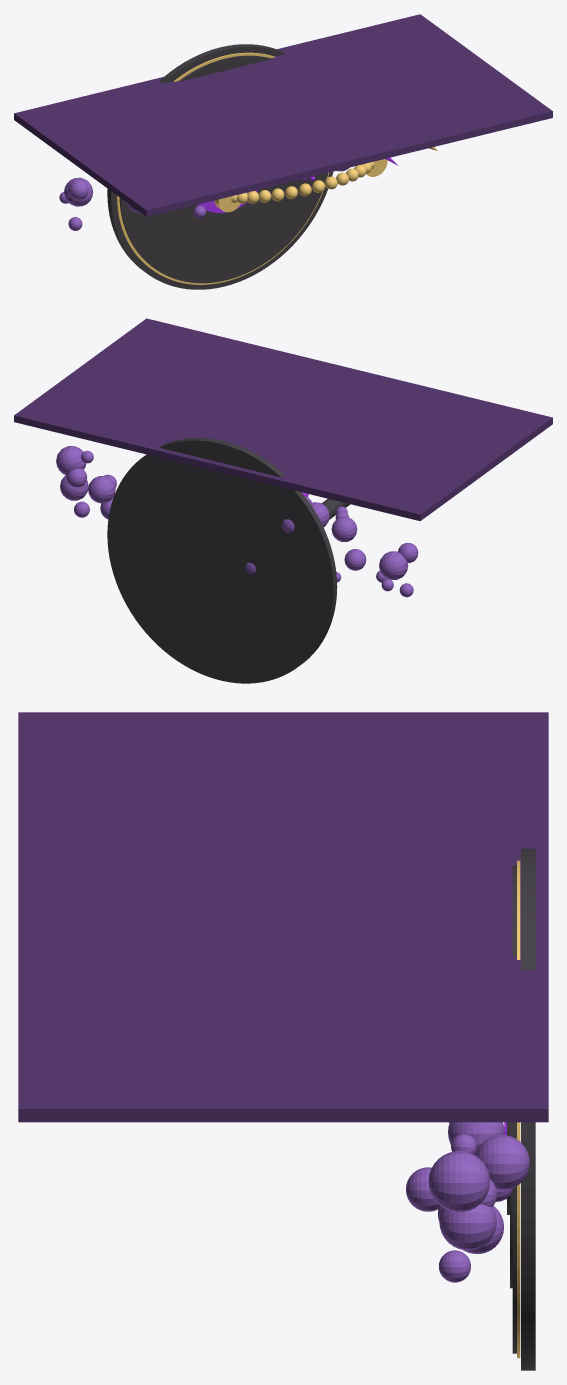
File: lee-wuh-world-background.glb
The picture shows the model from 3 angles, top to bottom: view 1: azimuth 30°, elevation 25°; view 2: azimuth 150°, elevation 25°; view 3: azimuth 270°, elevation 25°; orthographic projection. The views are drawn at different scales.
Parts seen in each view (by area): view 1: deep_black_purple_world_backdrop, dark_inner_ring_mask_proxy_1, dark_inner_ring_mask_proxy_2, floating_black_stone_realm_platform, engraved_gold_platform_ring_1, dark_inner_ring_mask_proxy_3, soft_purple_realm_mist_proxy_7, soft_purple_realm_mist_proxy_31; view 2: deep_black_purple_world_backdrop, floating_black_stone_realm_platform, soft_purple_realm_mist_proxy_7, soft_purple_realm_mist_proxy_5, soft_purple_realm_mist_proxy_19, soft_purple_realm_mist_proxy_29; view 3: deep_black_purple_world_backdrop, floating_black_stone_realm_platform, soft_purple_realm_mist_proxy_5, soft_purple_realm_mist_proxy_19, soft_purple_realm_mist_proxy_35, dark_inner_ring_mask_proxy_1, engraved_gold_platform_ring_1, soft_purple_realm_mist_proxy_15, soft_purple_realm_mist_proxy_36, soft_purple_realm_mist_proxy_18.
Boxes of the visible parts, left/top/right/bottom form: deep_black_purple_world_backdrop: left=14, top=14, right=552, bottom=216; dark_inner_ring_mask_proxy_1: left=119, top=55, right=328, bottom=283; dark_inner_ring_mask_proxy_2: left=153, top=180, right=299, bottom=253; floating_black_stone_realm_platform: left=107, top=44, right=333, bottom=289; engraved_gold_platform_ring_1: left=116, top=52, right=328, bottom=284; dark_inner_ring_mask_proxy_3: left=190, top=188, right=264, bottom=219; soft_purple_realm_mist_proxy_7: left=64, top=177, right=93, bottom=206; soft_purple_realm_mist_proxy_31: left=68, top=179, right=88, bottom=199; deep_black_purple_world_backdrop: left=14, top=318, right=552, bottom=521; floating_black_stone_realm_platform: left=107, top=438, right=337, bottom=683; soft_purple_realm_mist_proxy_7: left=379, top=551, right=408, bottom=579; soft_purple_realm_mist_proxy_5: left=56, top=446, right=86, bottom=475; soft_purple_realm_mist_proxy_19: left=88, top=476, right=115, bottom=503; soft_purple_realm_mist_proxy_29: left=331, top=516, right=357, bottom=541; deep_black_purple_world_backdrop: left=18, top=712, right=548, bottom=1122; floating_black_stone_realm_platform: left=521, top=848, right=535, bottom=1370; soft_purple_realm_mist_proxy_5: left=428, top=1151, right=489, bottom=1212; soft_purple_realm_mist_proxy_19: left=475, top=1135, right=529, bottom=1190; soft_purple_realm_mist_proxy_35: left=439, top=1204, right=496, bottom=1250; dark_inner_ring_mask_proxy_1: left=512, top=865, right=516, bottom=1353; engraved_gold_platform_ring_1: left=517, top=860, right=520, bottom=1358; soft_purple_realm_mist_proxy_15: left=406, top=1167, right=439, bottom=1211; soft_purple_realm_mist_proxy_36: left=448, top=1122, right=504, bottom=1155; soft_purple_realm_mist_proxy_18: left=439, top=1250, right=470, bottom=1282.
Size of the model in its own units: 11.5 by 6.4 by 6.5.
